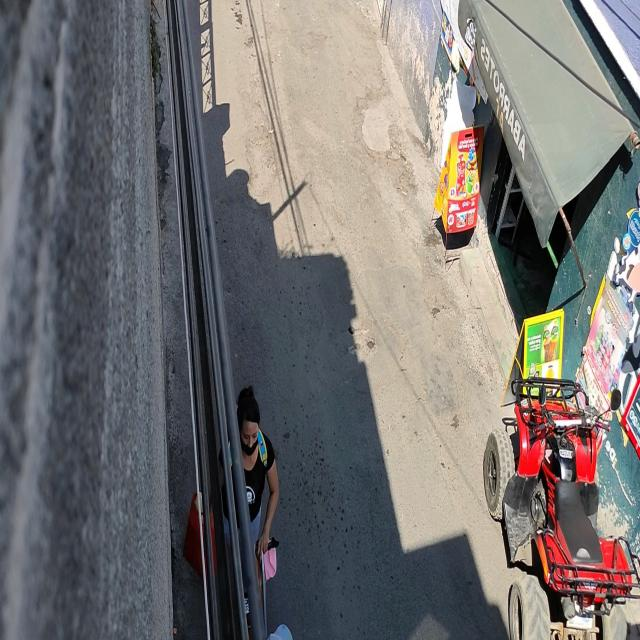adult: (208, 386, 280, 618)
